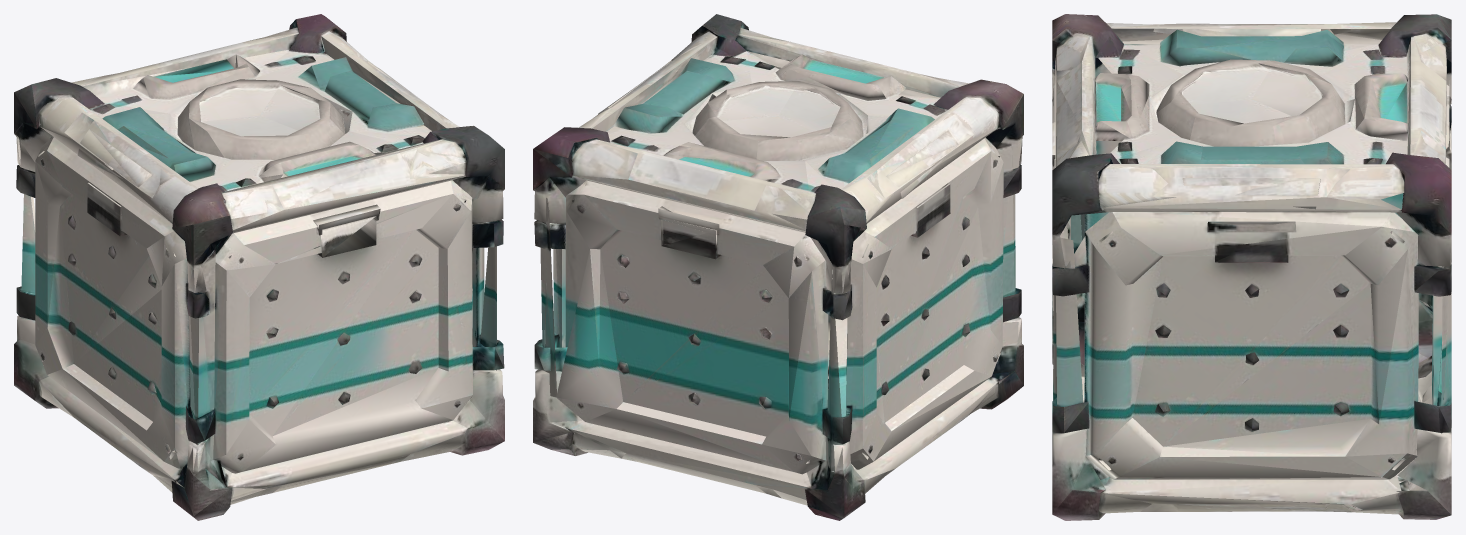
Rendered from crate.glb.
The picture shows the model from 3 angles, left to right: view 1: azimuth 30°, elevation 25°; view 2: azimuth 150°, elevation 25°; view 3: azimuth 270°, elevation 25°; orthographic projection. The views are drawn at different scales.
Size of the model in its own units: 0.724 by 0.7 by 0.724.
1 material, 1 textured.
